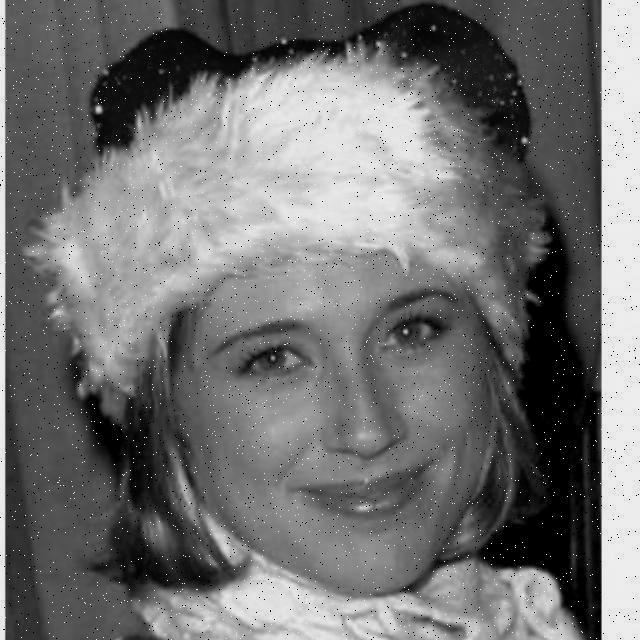real: (175, 192, 507, 600)
